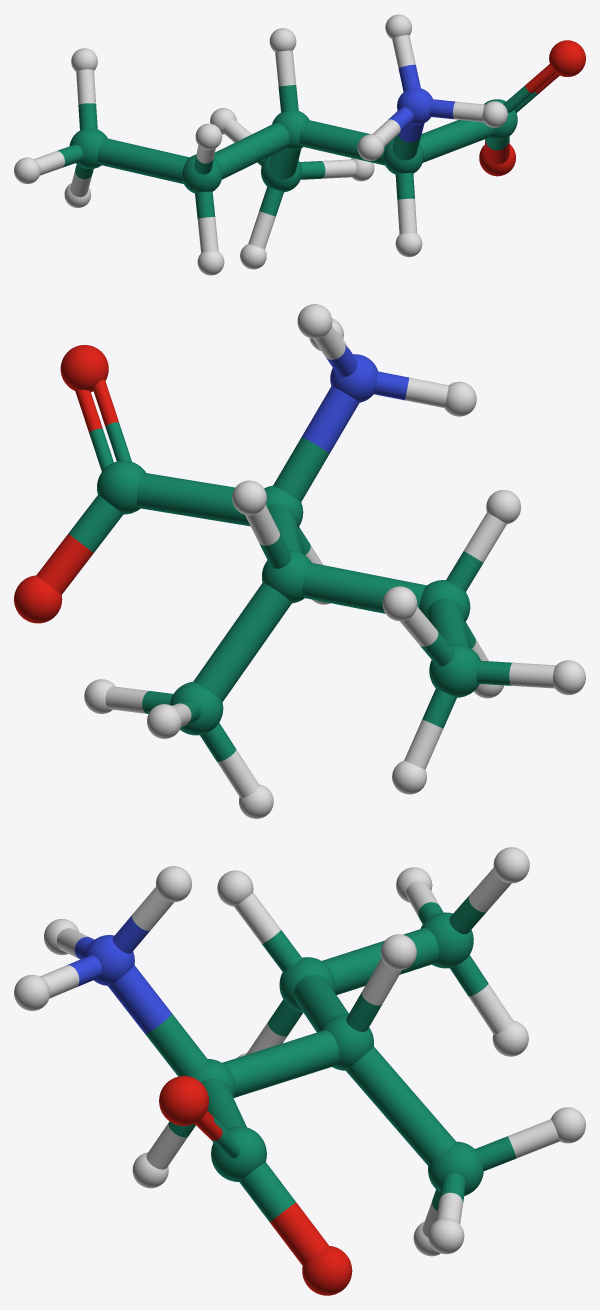
The model's file is ILE.PDB.glb.
3 views of the same model, one above another, from view 1: azimuth 30°, elevation 25°; view 2: azimuth 150°, elevation 25°; view 3: azimuth 270°, elevation 25° (orthographic). The views are drawn at different scales.
Bounding box in the file's own units: 6.88 × 4.22 × 5.21.
